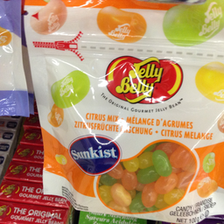candy: (25, 2, 222, 221)
